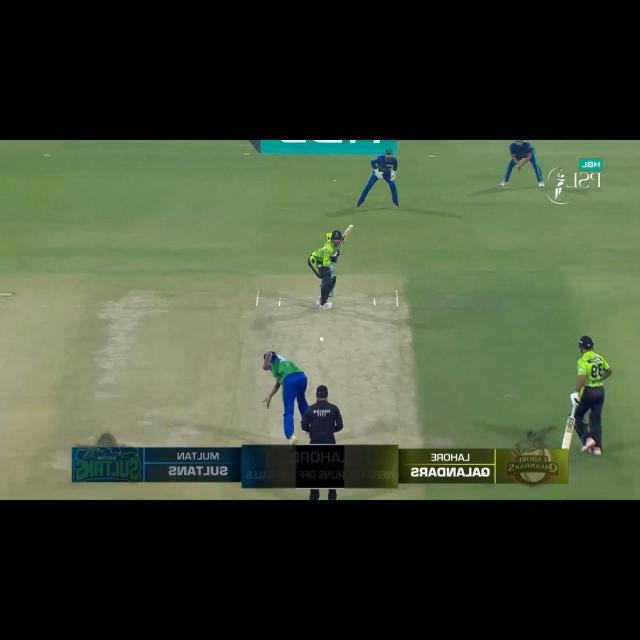bat: (561, 418, 575, 451), (341, 224, 354, 241)
toe: (561, 443, 570, 451), (347, 223, 355, 230)
